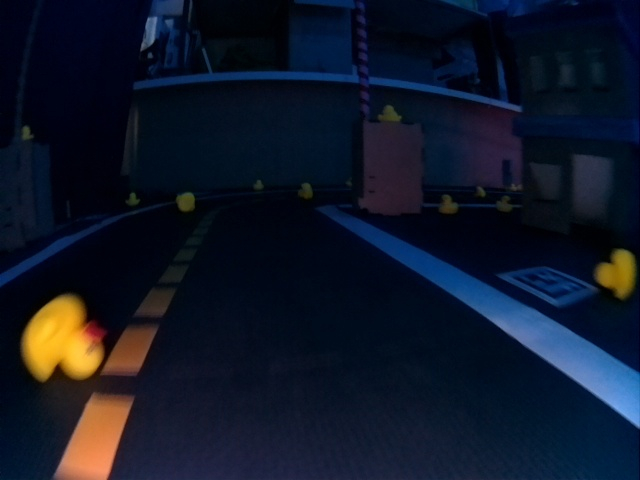Duckie: (21, 295, 103, 380), (596, 249, 637, 299), (437, 194, 458, 214), (377, 104, 401, 121), (176, 192, 195, 211), (495, 195, 513, 212), (298, 182, 313, 199), (126, 192, 139, 205), (20, 126, 32, 138), (474, 185, 486, 197), (252, 179, 263, 190), (345, 176, 354, 185), (510, 184, 518, 193), (517, 184, 524, 192)
QR code: (497, 267, 597, 306)
